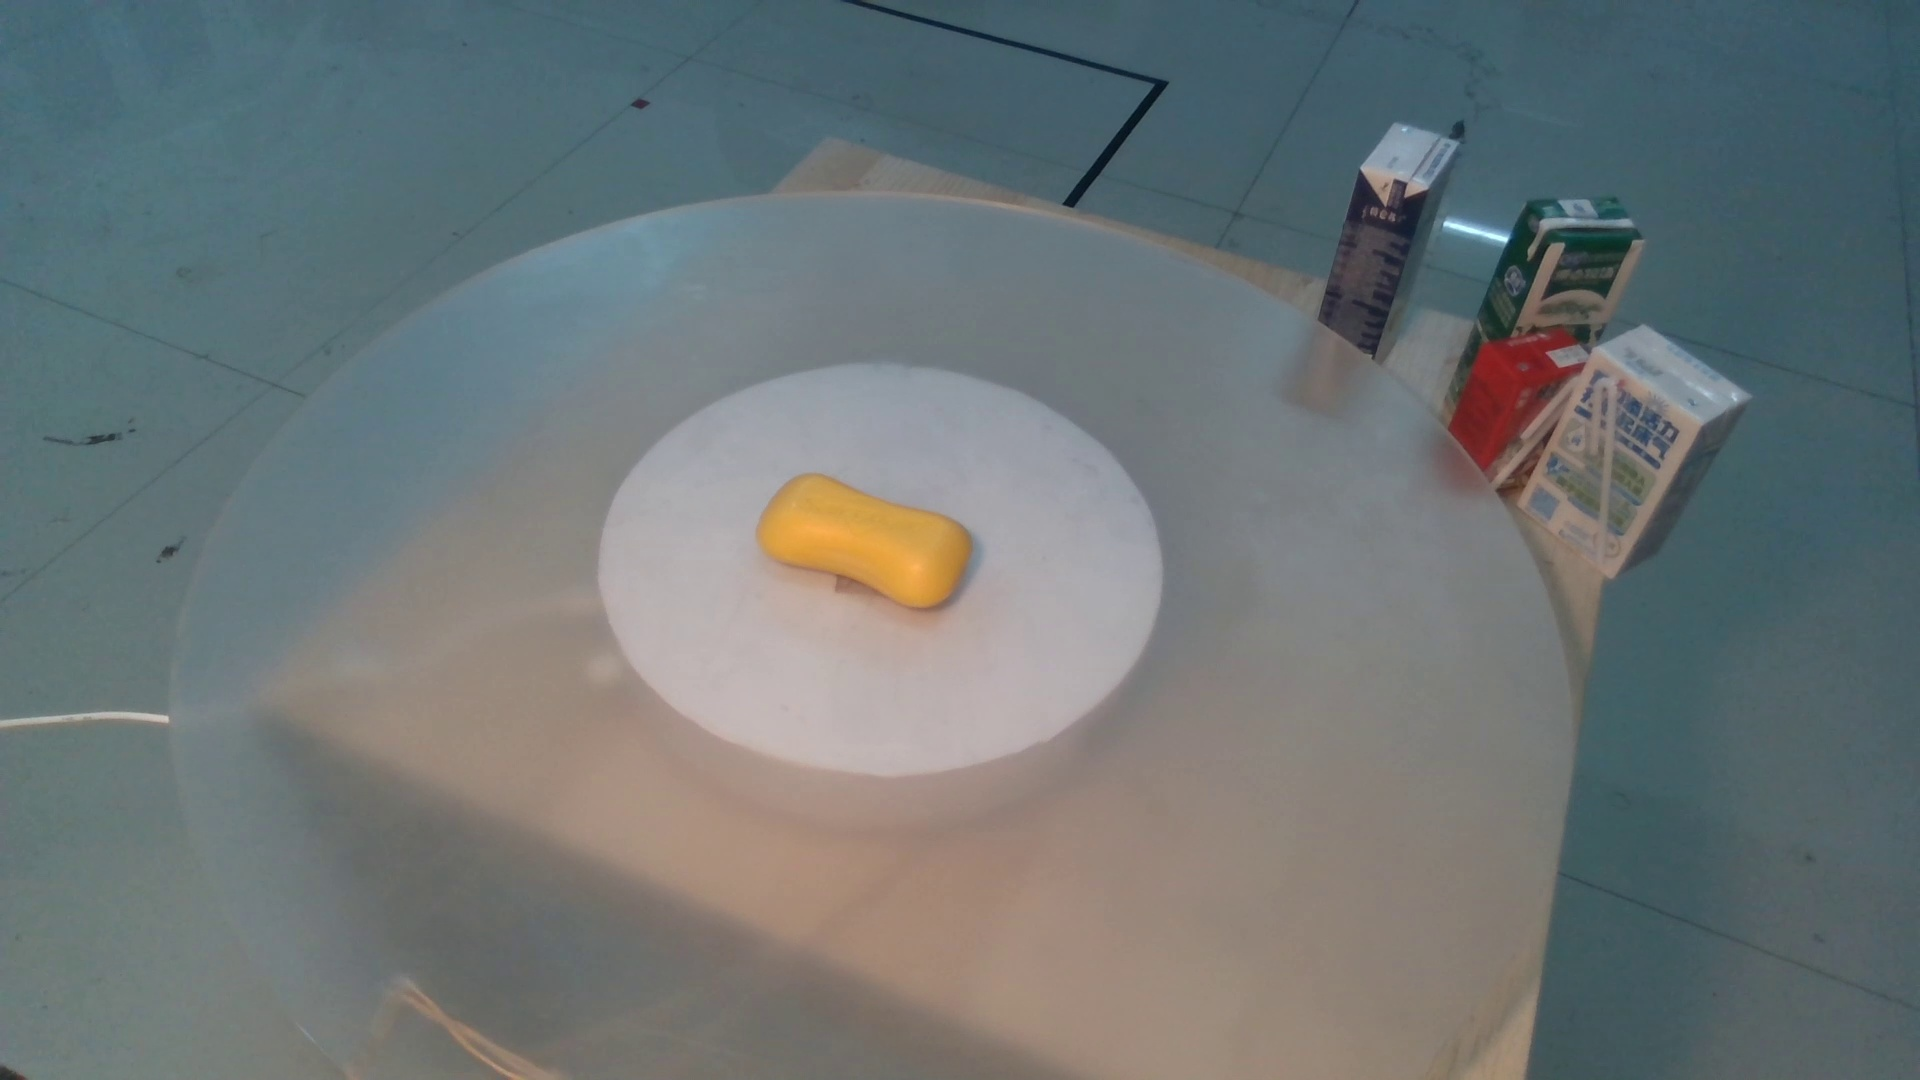CA003_1: (731, 454, 1025, 640)
